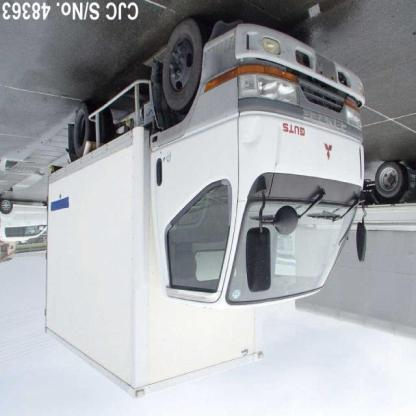truck: (49, 22, 368, 399)
